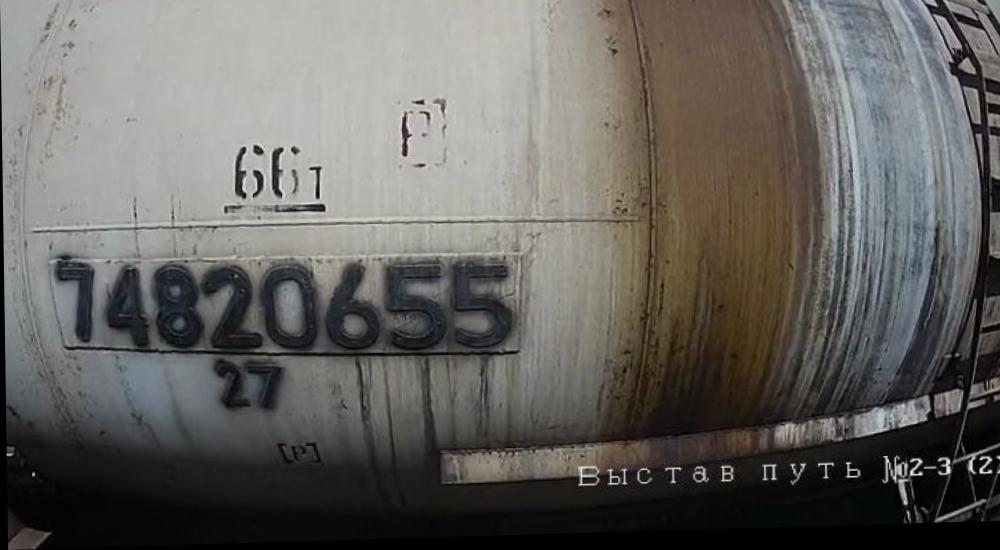Wagon-number: (46, 255, 519, 364)
